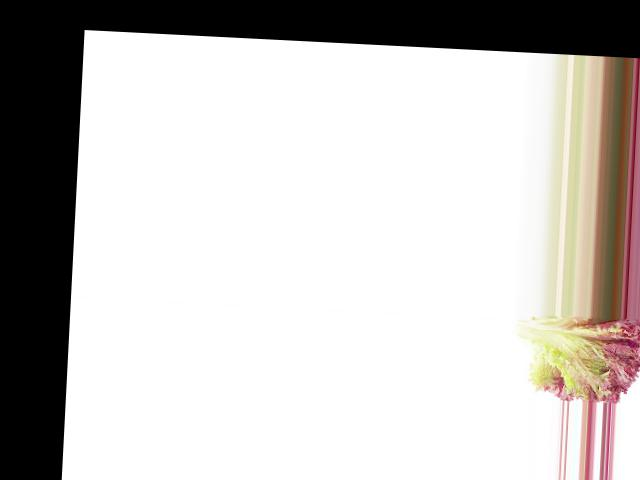lettuce: (508, 313, 640, 403)
